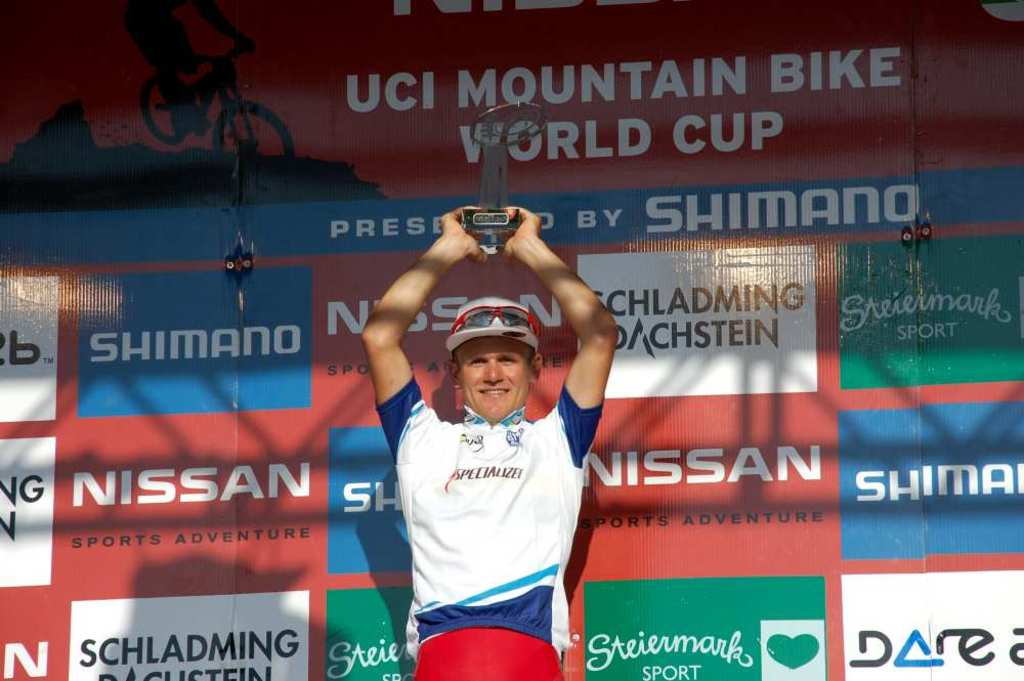Person: (361, 205, 618, 680)
